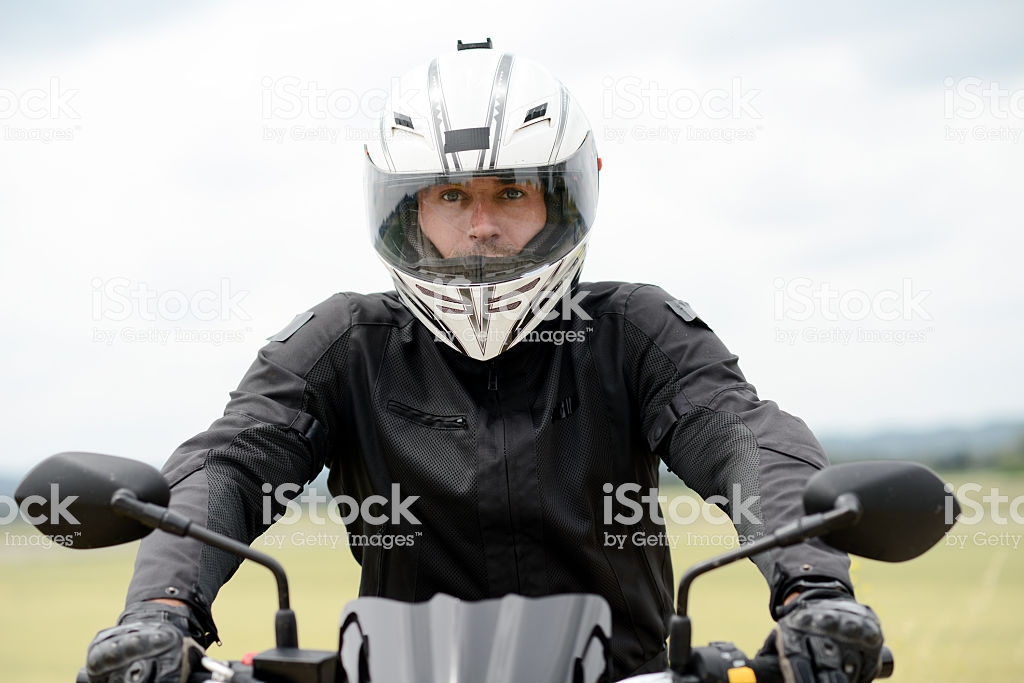helmet: (375, 47, 588, 332)
